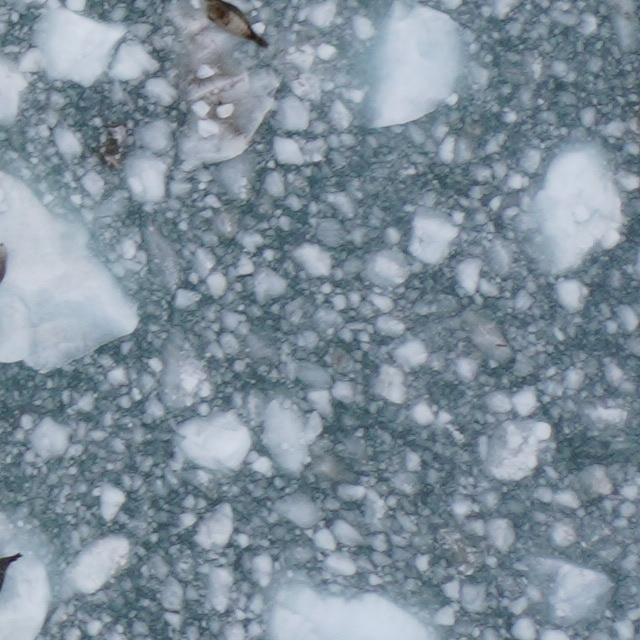seal: (200, 0, 272, 50)
